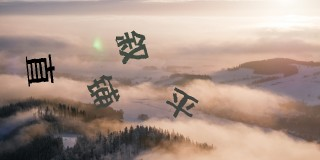叙: (115, 29, 150, 65)
平: (166, 87, 199, 119)
直: (24, 54, 56, 87)
铺: (86, 75, 122, 109)
